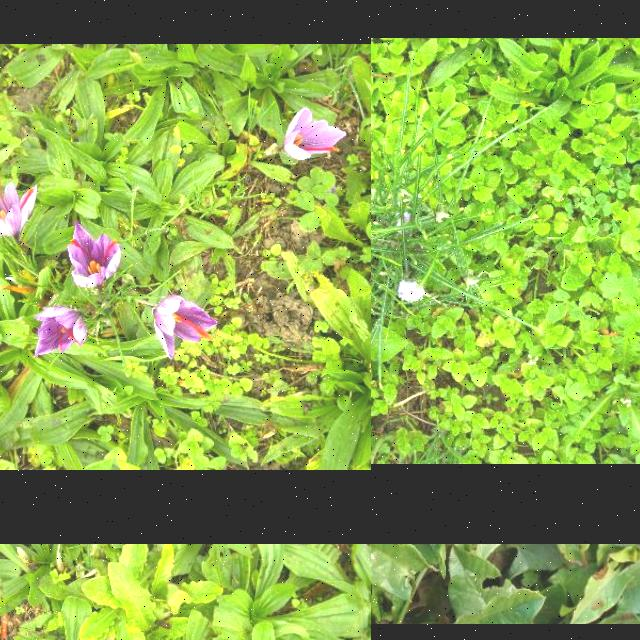flower: (152, 294, 218, 362), (68, 222, 122, 286), (285, 108, 347, 162), (32, 307, 88, 357), (0, 177, 38, 238), (398, 280, 426, 304)
